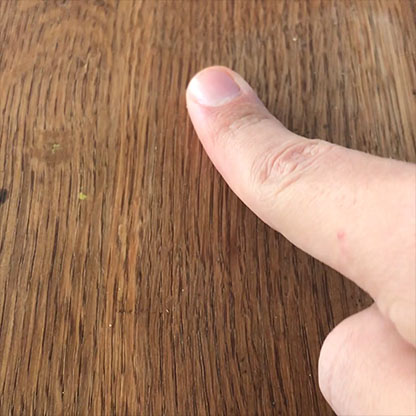fingertip: (169, 63, 267, 143)
